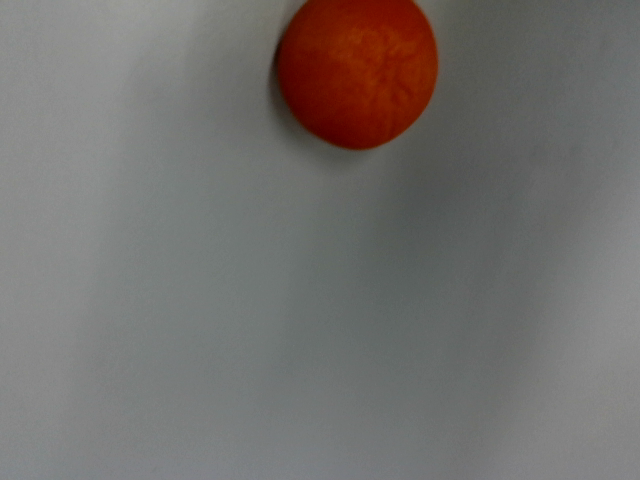orange: (277, 0, 437, 149)
